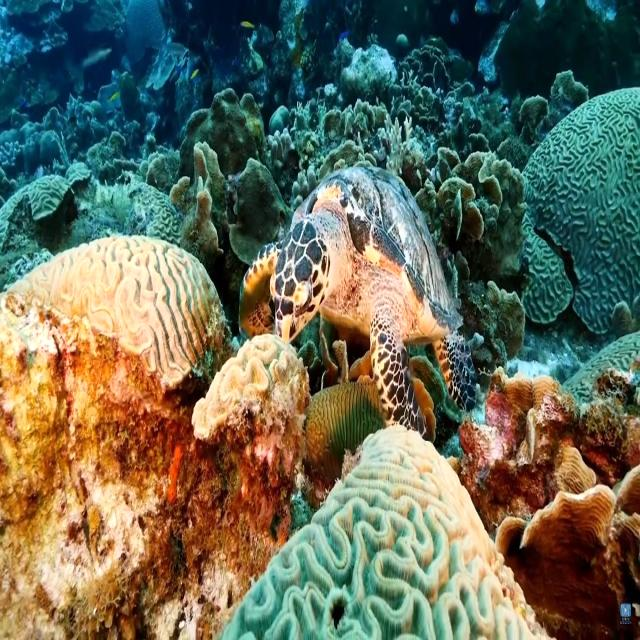Sea turtle: (238, 161, 486, 446)
